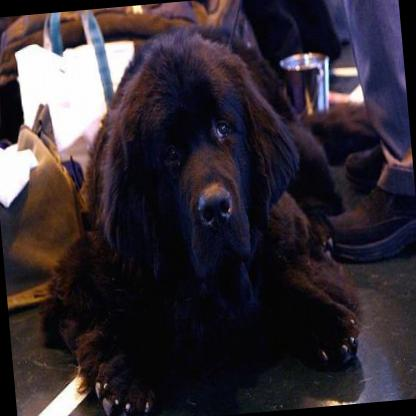Newfoundland: (13, 11, 366, 416)
